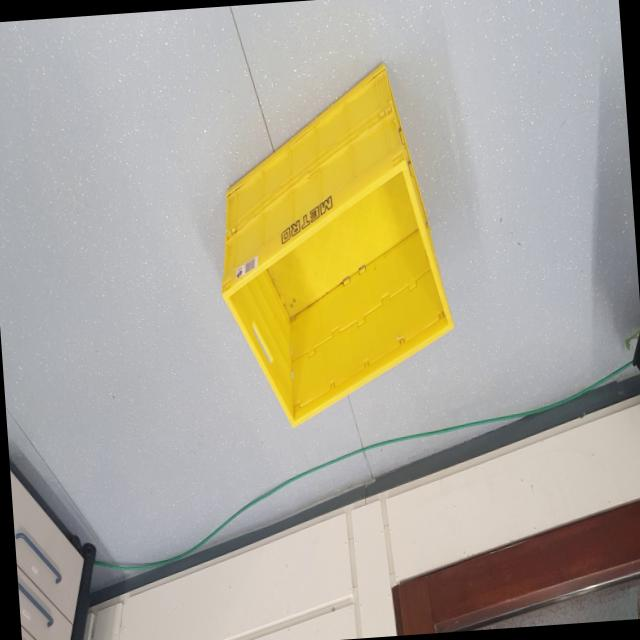box: (206, 49, 464, 448)
